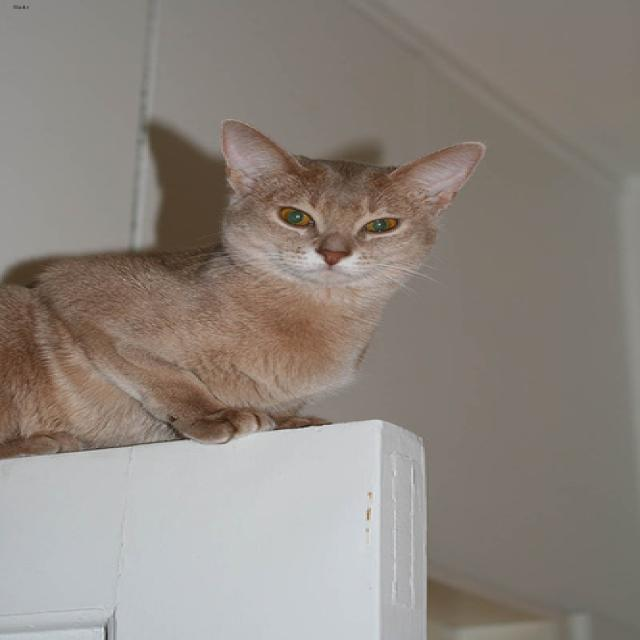cat: (218, 119, 482, 285)
